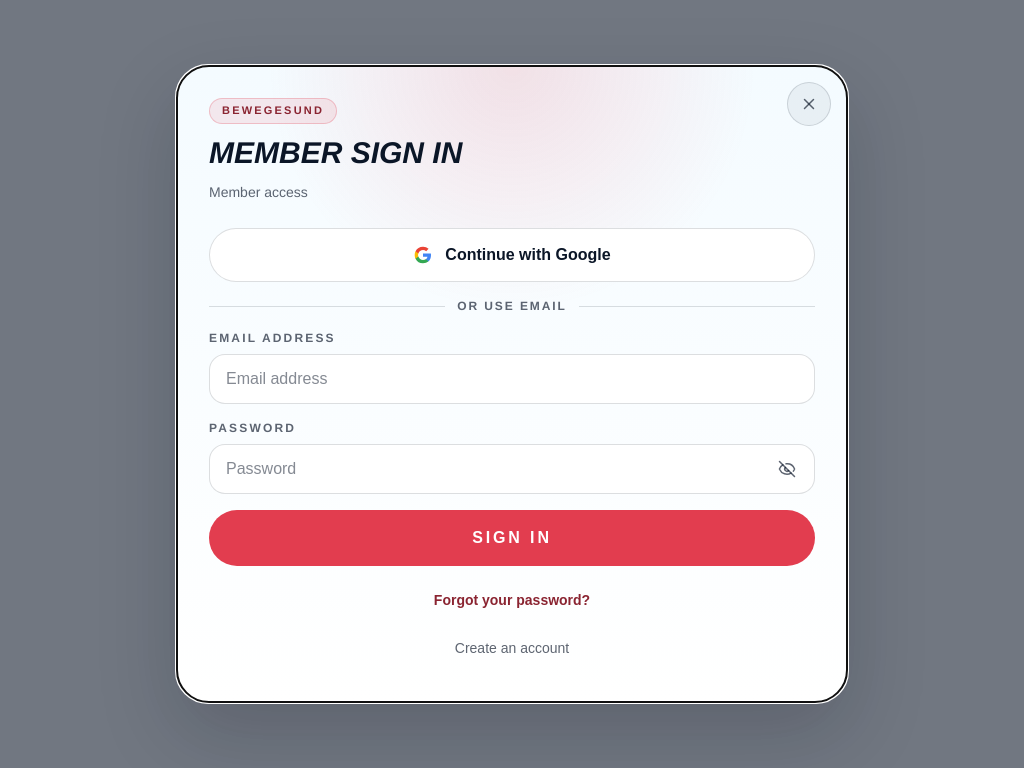
Test: AuthModal Google sign-in › shows sign-in requirements when submitted empty
Click the button "Sign In": (512, 538) 209,510 -> 815,566
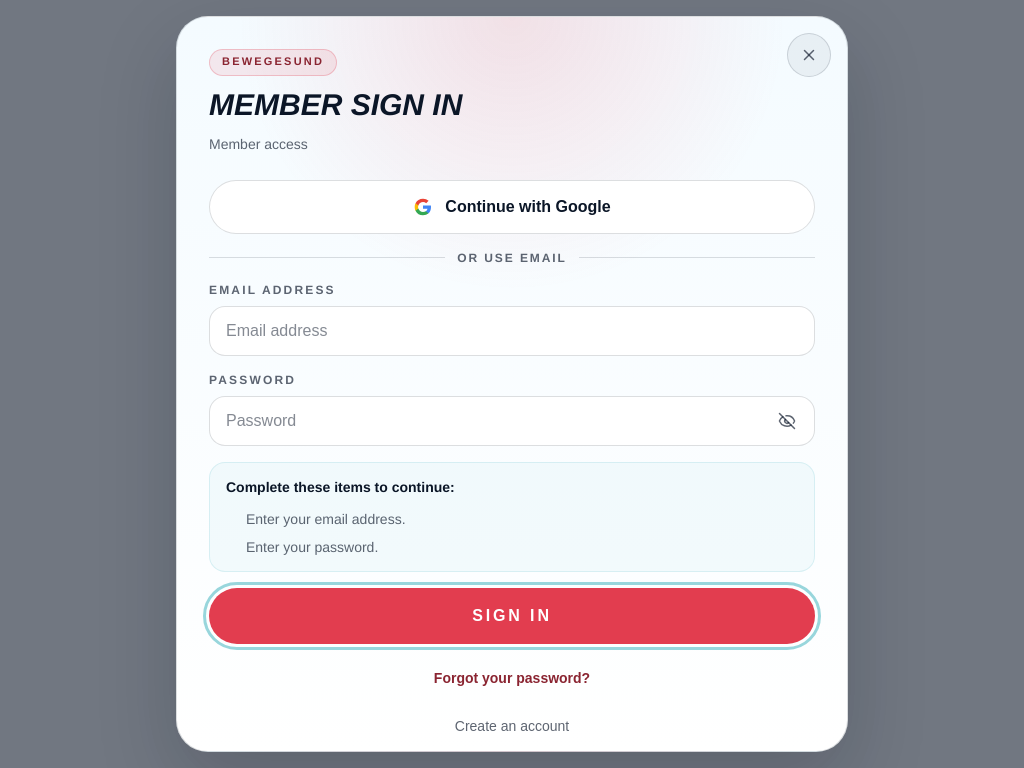
Expected: the text "Complete these items to continue:" is shown, 226,478 -> 455,494
Expected: the list item "Enter your email address." is shown, 246,510 -> 406,526
Expected: the list item "Enter your password." is shown, 246,538 -> 378,554
